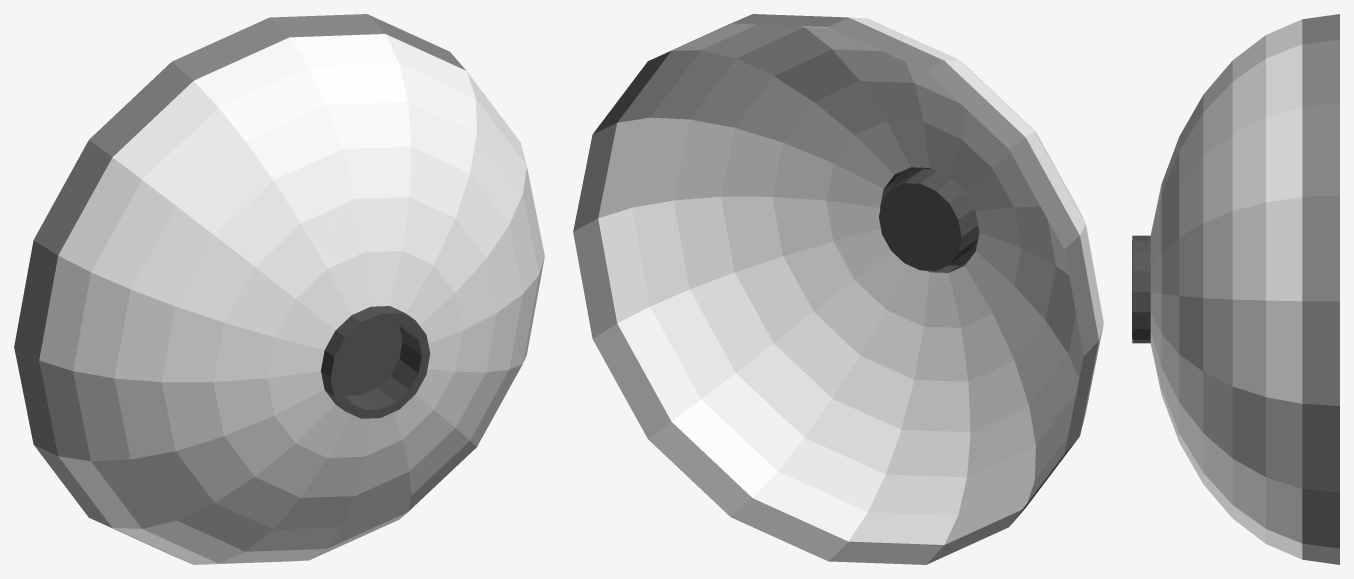
The model's file is LaserGenerator.fbx.
3 views of the same model, side by side, from view 1: azimuth 30°, elevation 25°; view 2: azimuth 150°, elevation 25°; view 3: azimuth 270°, elevation 25° (orthographic). The views are drawn at different scales.
Visible parts, largest first — view 1: LaserGenerator; view 2: LaserGenerator; view 3: LaserGenerator.
Boxes of the visible parts, bbox=[...] form: LaserGenerator: bbox=[14, 14, 544, 564]; LaserGenerator: bbox=[573, 14, 1103, 564]; LaserGenerator: bbox=[1132, 14, 1339, 564].
Bounding box in the file's own units: 200 × 200 × 75.32.
